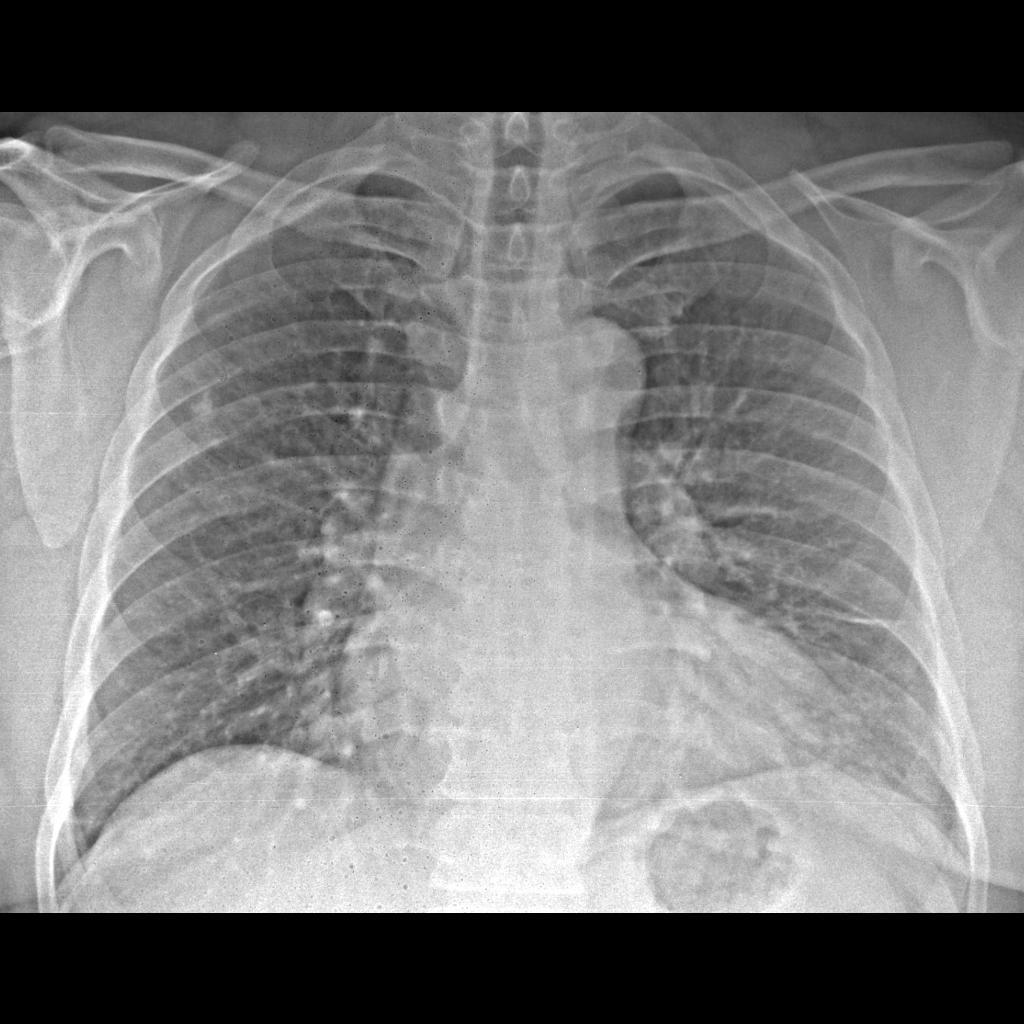Nodule: (185, 380, 228, 432)
